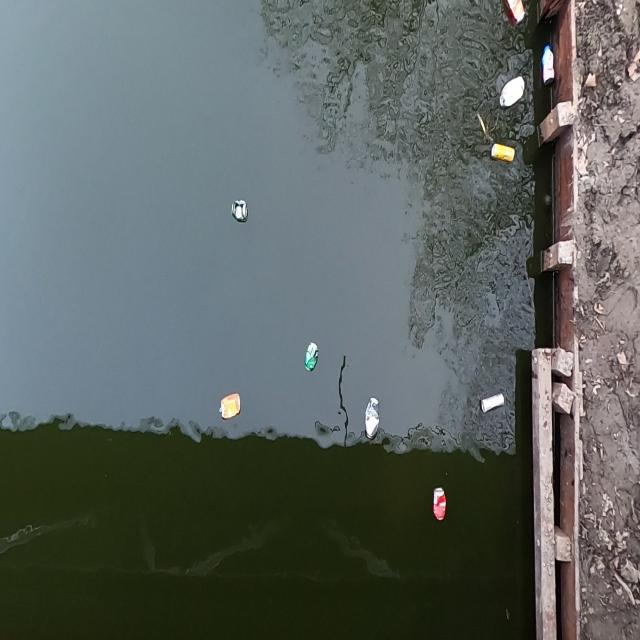Non plastique: (360, 390, 387, 450), (494, 73, 528, 119), (216, 390, 245, 434), (230, 187, 254, 233), (302, 332, 324, 380), (431, 484, 452, 532), (502, 0, 527, 36), (491, 137, 518, 170), (480, 386, 506, 420)
